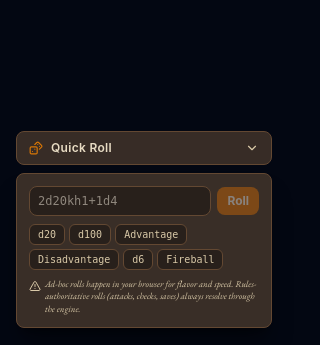
Scenario: DiceRollerPanel › renders exactly the six quick chips and rolling one produces a result
Expected: the button "d20" is shown, [29,224,65,245]
Expected: the button "d100" is shown, [69,224,111,245]
Click the button "Advantage" at [151, 234], box [115,224,187,245]
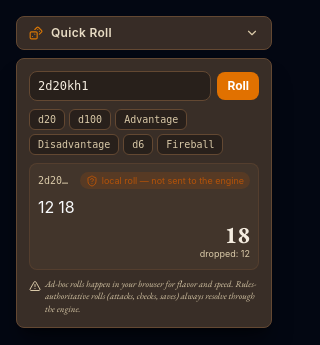
Now the element with test id "dice-roller-result" is shown, box [29,163,259,270]
Now the field named "Custom dice expression" holds "2d20kh1", box [29,71,211,101]
